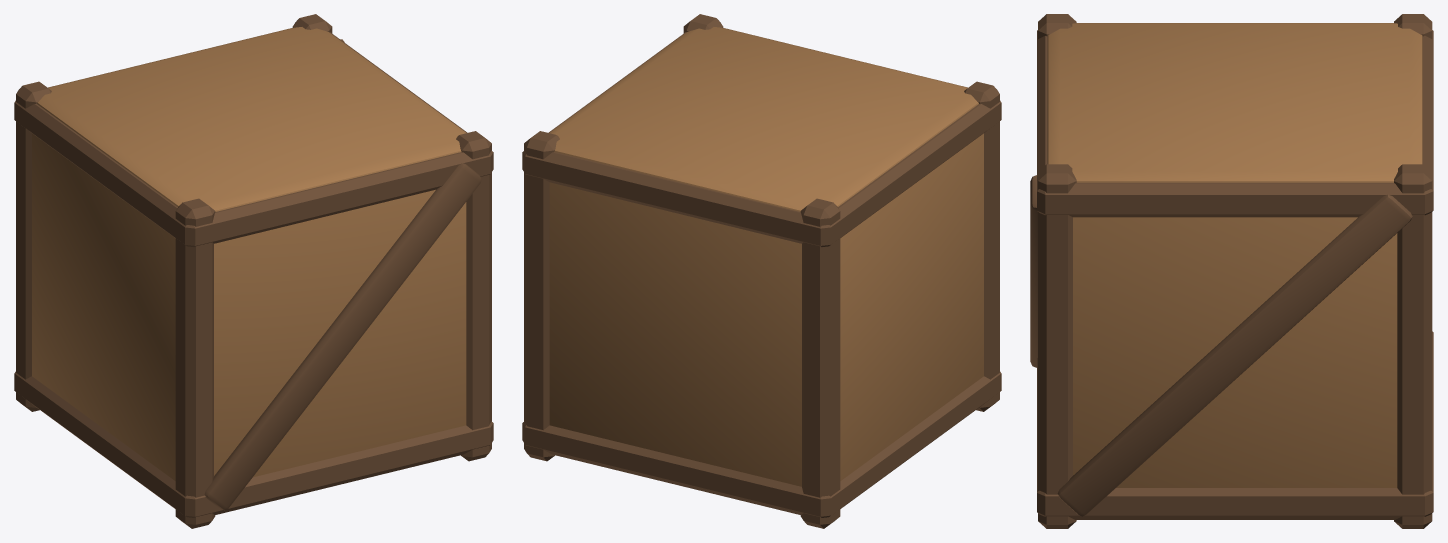
The model's file is Crate.fbx.
3 views of the same model, side by side, from view 1: azimuth 30°, elevation 25°; view 2: azimuth 150°, elevation 25°; view 3: azimuth 270°, elevation 25° (orthographic). The views are drawn at different scales.
Parts seen in each view (by area): view 1: Crate; view 2: Crate; view 3: Crate.
Boxes of the visible parts, box(x1,y1,x2,y2) form: Crate: box(14, 14, 493, 528); Crate: box(522, 14, 1001, 528); Crate: box(1030, 14, 1433, 528).
Size of the model in its own units: 0.945 by 0.92 by 0.945.
